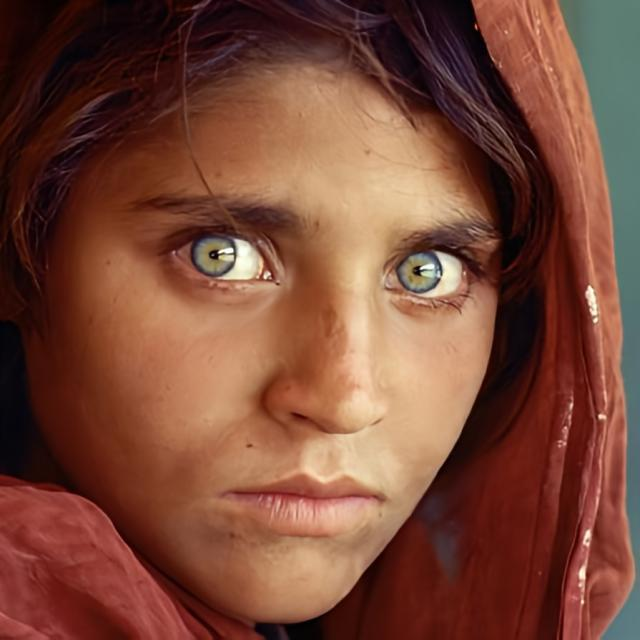anger: (21, 40, 508, 625)
